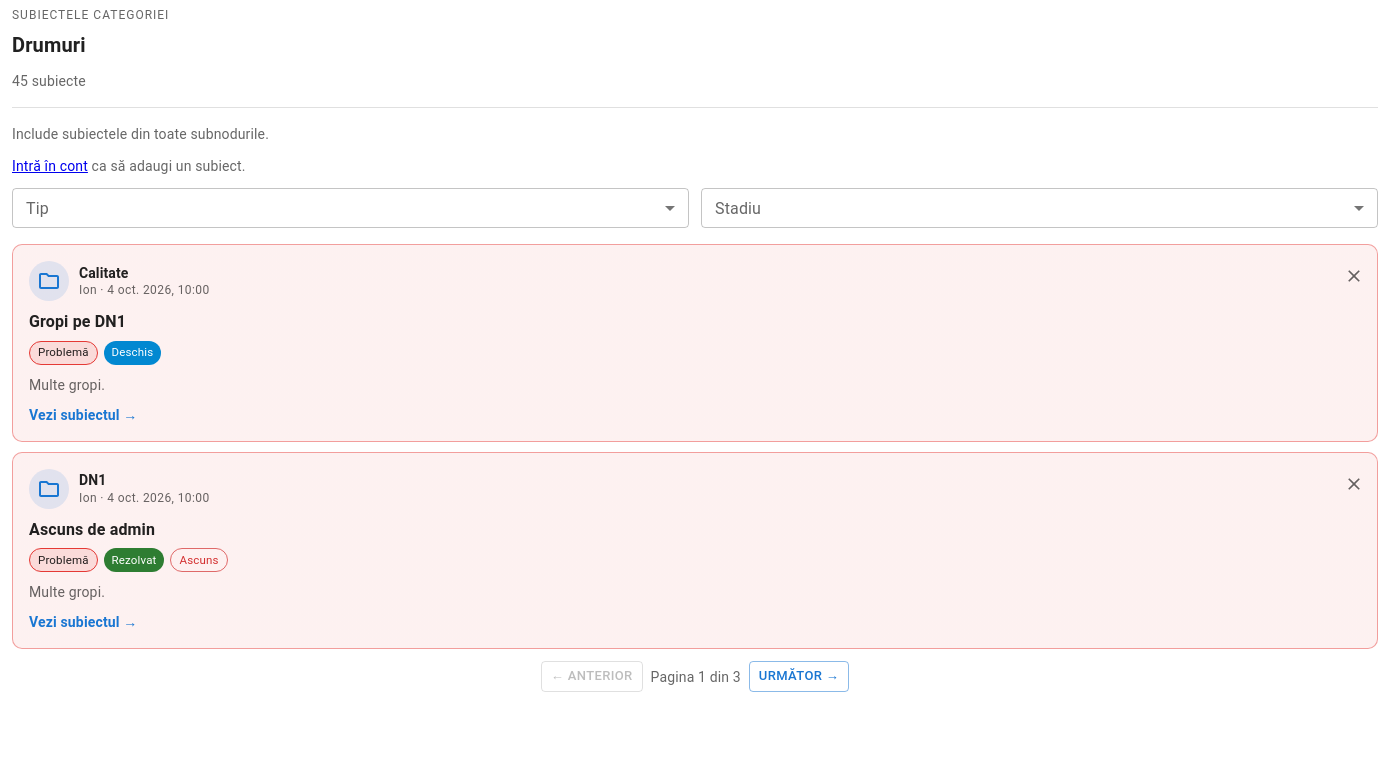
it: paginare: 45 subiecte -> 3 pagini; pagina 2 cere ?page=2
This screenshot has width=1378, height=768.
Expected: the text "Gropi pe DN1" is shown, [29,312,126,331]
Expected: the text "Pagina 1 din 3" is shown, [650,667,741,687]
Click the button "Următor →" at (799, 677), box [749,661,849,692]
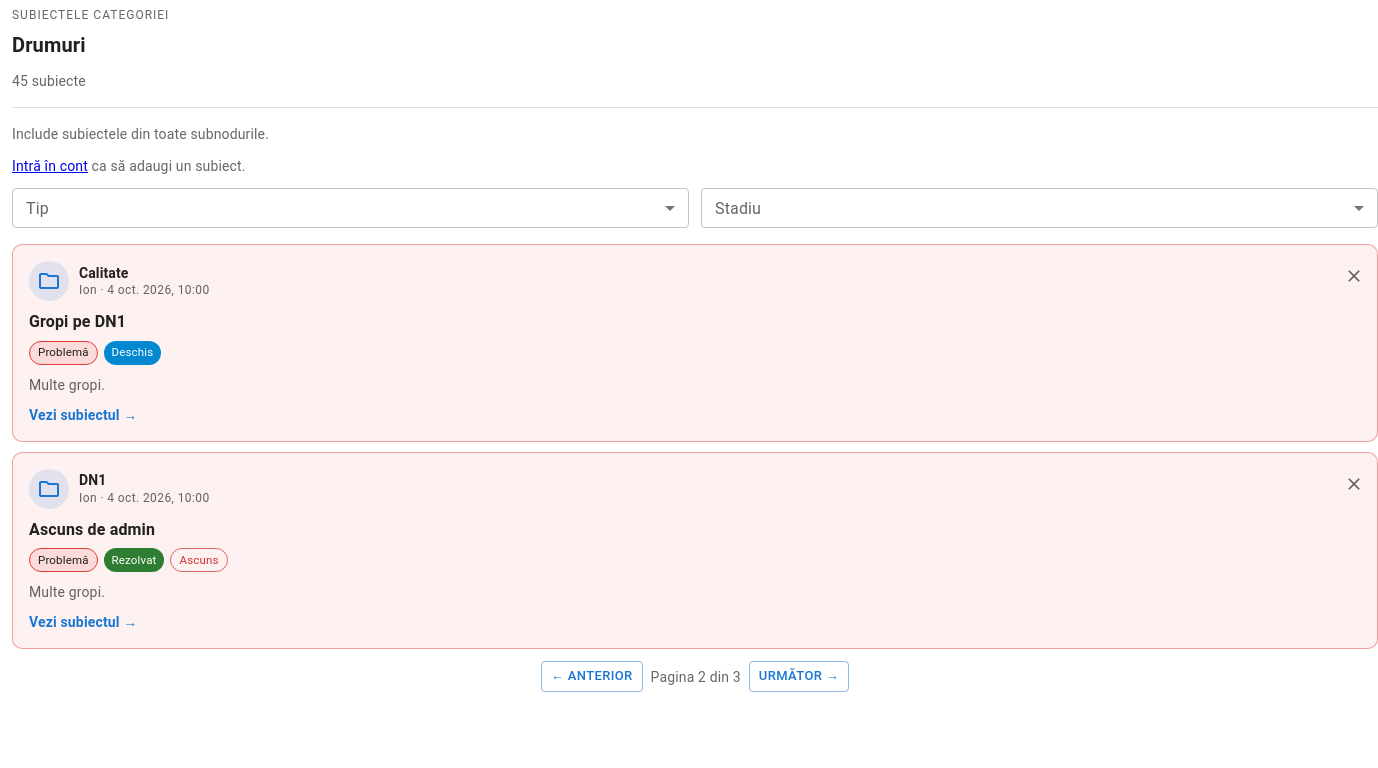
Result: the text "Pagina 2 din 3" is shown at [650,667,741,687]
